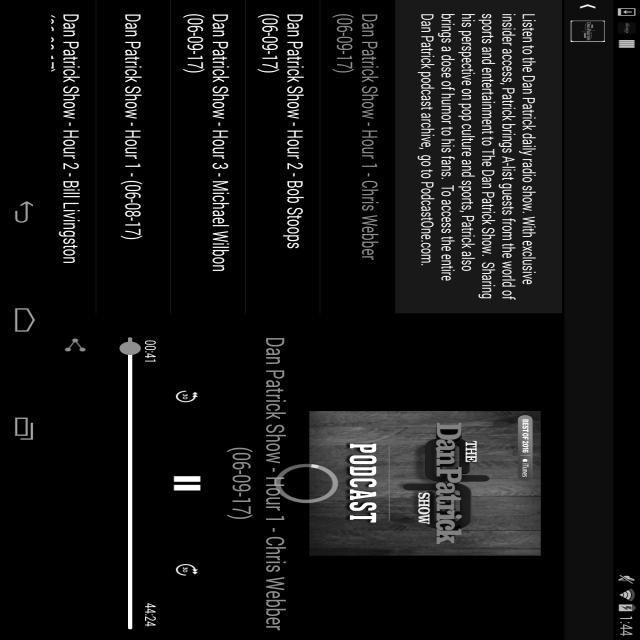ImageButton: (528, 338, 576, 368), (608, 266, 640, 299)
ImageView: (16, 22, 84, 43), (6, 26, 14, 38)
SeekBar: (522, 312, 640, 330)
TextView: (21, 62, 480, 140), (21, 159, 474, 193), (21, 206, 474, 240), (21, 346, 474, 380), (21, 253, 474, 286), (97, 23, 640, 42), (21, 308, 474, 326), (533, 217, 640, 259), (544, 299, 582, 312)
